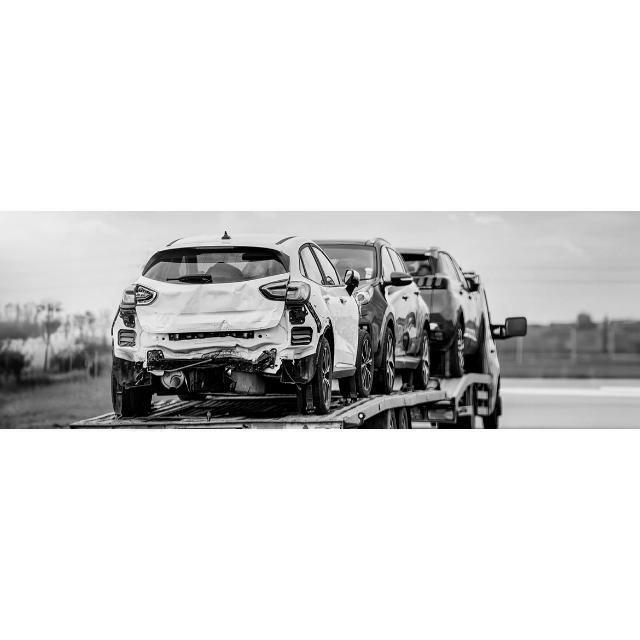Taillight-Damage: (125, 284, 160, 307)
boot-dent: (138, 276, 286, 328)
rear-bumper-dent: (116, 325, 321, 382)
